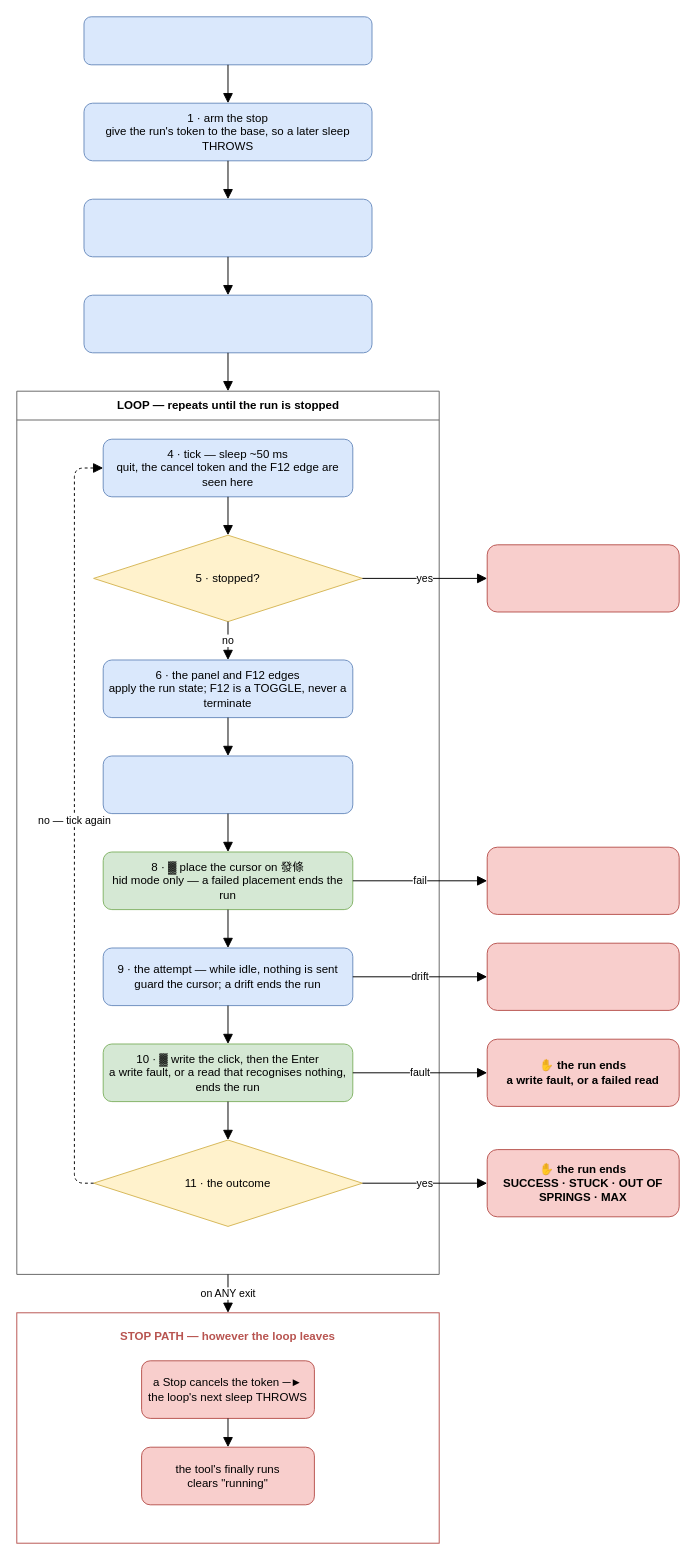
This 696x1560 diagram has some shape labels left out. Each missing label, with the centre of its shape:
"2 · open the run a fresh run log, and the OCR engine" goes at (x=227, y=227).
"3 · seed the state running=false · countdown=0 · attempt=0" goes at (x=227, y=323).
"7 · the countdown 20 ticks of 50 ms · F12 aborts it; at 0 → RUNNING" goes at (x=227, y=784).
"Run — handed the port, the card state, and one cancellation token" goes at (x=227, y=40).
"✋ the run ends nothing is left held" goes at (x=582, y=578).
"✋ the run ends the cursor drifted" goes at (x=582, y=976).
"✋ the run ends the spring could not be placed" goes at (x=582, y=880).
